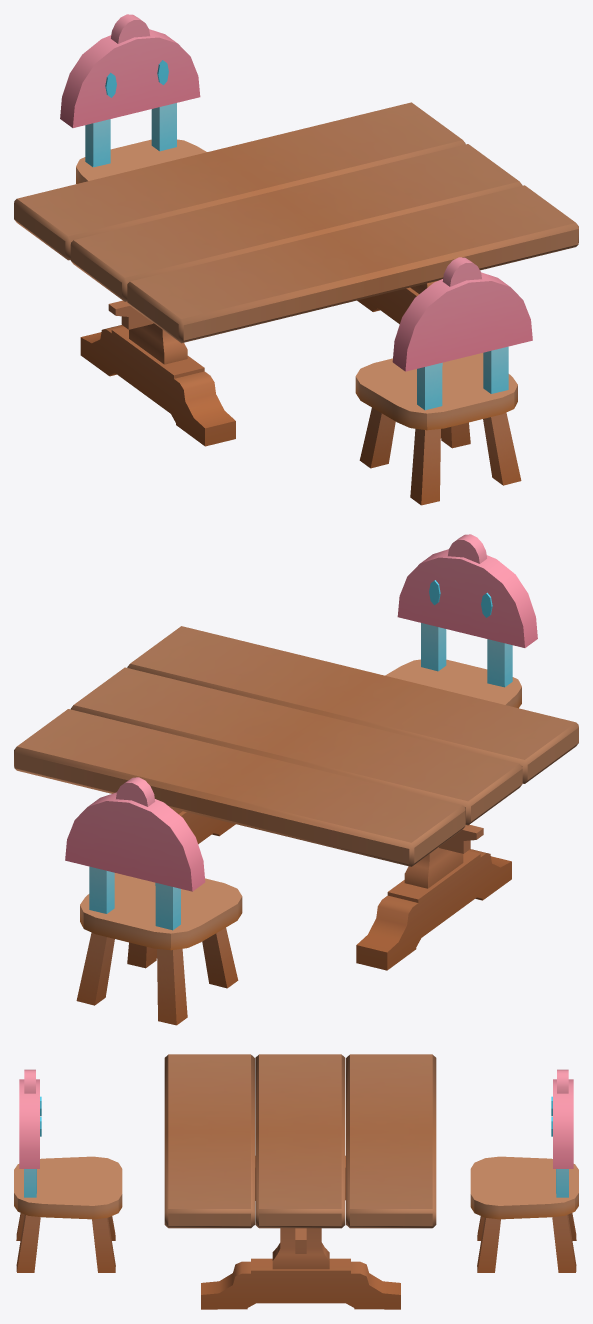
Rendered from Sand_Desk.fbx.
3 views of the same model, one above another, from view 1: azimuth 30°, elevation 25°; view 2: azimuth 150°, elevation 25°; view 3: azimuth 270°, elevation 25° (orthographic). The views are drawn at different scales.
Visible parts, largest first — view 1: Sand_Desk, Sand_Chair_02, Sand_Chair_01; view 2: Sand_Desk, Sand_Chair_01, Sand_Chair_02; view 3: Sand_Desk, Sand_Chair_01, Sand_Chair_02.
Boxes of the visible parts, x1,y1,x2,y2 form: Sand_Desk: (14,102,578,446); Sand_Chair_02: (355,257,532,505); Sand_Chair_01: (60,14,206,183); Sand_Desk: (14,626,578,970); Sand_Chair_01: (65,777,242,1025); Sand_Chair_02: (385,534,537,708); Sand_Desk: (164,1054,436,1309); Sand_Chair_01: (470,1069,578,1272); Sand_Chair_02: (14,1069,122,1272).
Bounding box in the file's own units: 237 × 129 × 361.
